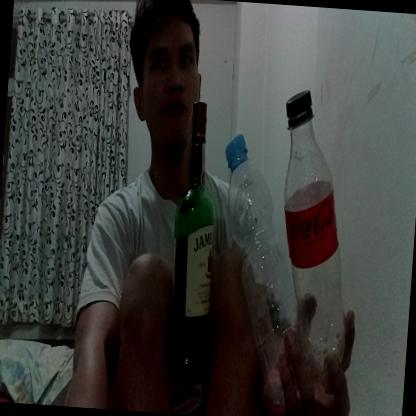objects: (164, 98, 228, 388)
plastic_bottles: (209, 134, 320, 408), (266, 86, 365, 384)
